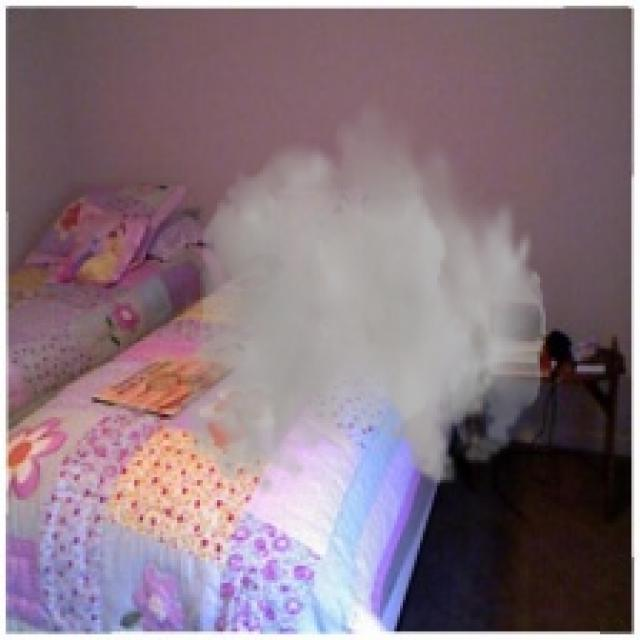Smoke: (183, 92, 546, 497)
